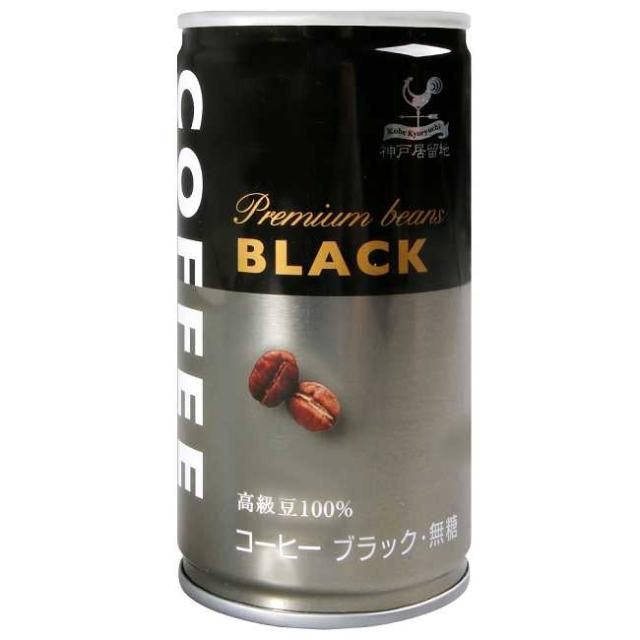Can: (168, 3, 478, 633)
